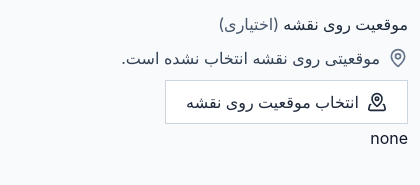
Test case: LocationField › a map whose code cannot load: says so, closes, and the form goes on without it
The width and height of the screenshot is (420, 185).
expect the text "موقعیتی روی نقشه انتخاب نشده است." is shown: met, box top-left (121, 48), bottom-right (408, 68)
Click the button "انتخاب موقعیت روی نقشه": (287, 102) top-left (165, 80), bottom-right (408, 124)
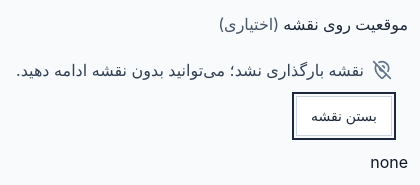
expect the message shows "نقشه بارگذاری نشد؛ می‌توانید بدون نقشه ادامه دهید.": met, box top-left (16, 60), bottom-right (364, 80)
# The pressed button is gone: the focus is on the way out, never on the page's body.
Click the button "بستن نقشه": (344, 116) top-left (296, 96), bottom-right (392, 136)
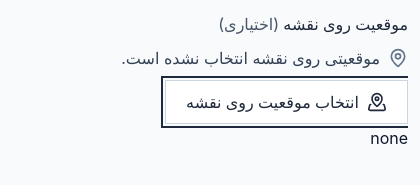
expect the text with test id "value" reads "none": met, box top-left (370, 128), bottom-right (408, 148)
expect the message "نقشه بارگذاری نشد؛ می‌توانید بدون نقشه ادامه دهید. بستن نقشه" is gone: met
